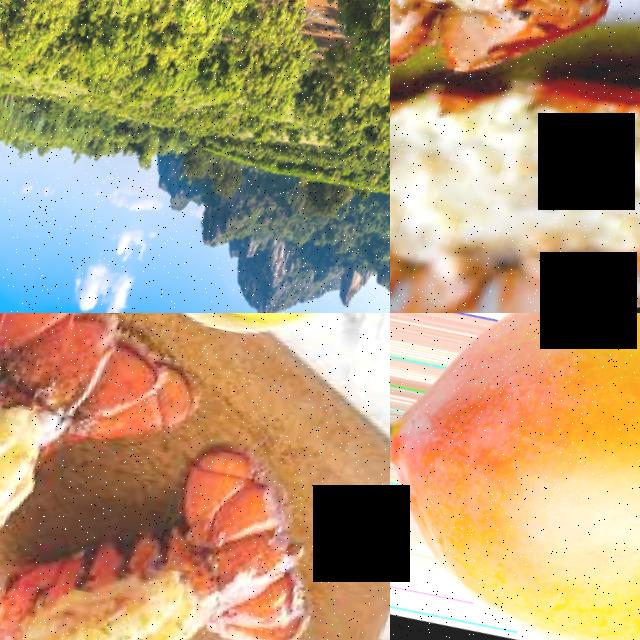lobster tails: (65, 429, 358, 640), (0, 313, 210, 574)
mango: (390, 313, 640, 640)
